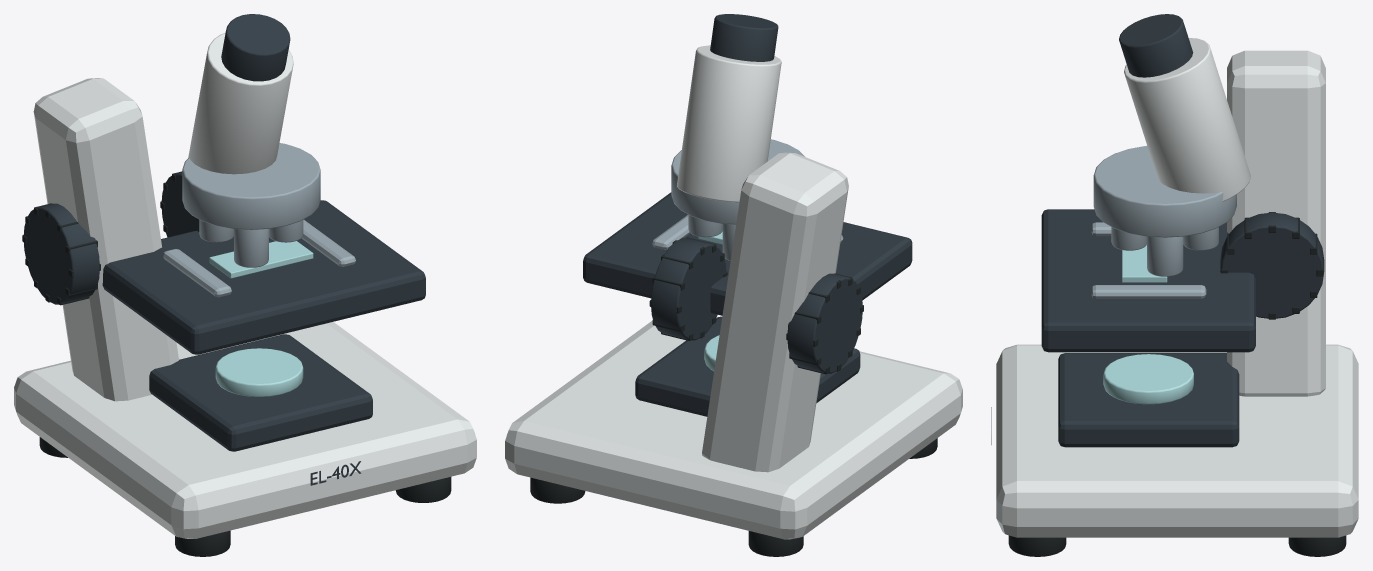
The model's file is microscope.glb.
3 views of the same model, side by side, from view 1: azimuth 30°, elevation 25°; view 2: azimuth 150°, elevation 25°; view 3: azimuth 270°, elevation 25° (orthographic). The views are drawn at different scales.
Visible parts, largest first — view 1: Cast enamel foot, Upright, Stage, Illuminator, Optical tube, Nosepiece, Focus wheel, Eyepiece, Lamp lens, Specimen slide, Focus wheel.001, Objective.002 (+6 smaller); view 2: Cast enamel foot, Upright, Optical tube, Stage, Focus wheel.001, Focus wheel, Illuminator, Eyepiece, Nosepiece, Rubber foot.001, Rubber foot.003, Slide clip.001 (+1 smaller); view 3: Cast enamel foot, Upright, Stage, Illuminator, Optical tube, Nosepiece, Focus wheel.001, Lamp lens, Eyepiece, Slide clip.001, Objective, Rubber foot.002 (+4 smaller).
Part boxes in pixels (x1,y1,x2,y2): Cast enamel foot: (14,322,476,538); Upright: (33,78,178,401); Stage: (102,200,425,354); Illuminator: (149,334,372,451); Optical tube: (188,33,293,174); Nosepiece: (182,143,320,229); Focus wheel: (23,203,99,304); Eyepiece: (221,14,290,81); Lamp lens: (215,348,303,396); Specimen slide: (209,241,313,278); Focus wheel.001: (161,172,199,237); Objective.002: (234,229,268,267); Cast enamel foot: (505,316,962,539); Upright: (702,152,848,472); Optical tube: (677,45,781,202); Stage: (583,192,912,315); Focus wheel.001: (651,238,726,340); Focus wheel: (787,273,862,373); Illuminator: (635,316,860,416); Eyepiece: (710,14,778,61); Nosepiece: (671,139,804,224); Rubber foot.001: (748,531,803,556); Rubber foot.003: (530,477,585,503); Slide clip.001: (652,215,690,249); Cast enamel foot: (996,344,1358,537); Upright: (1227,50,1325,396); Stage: (1041,209,1255,352); Illuminator: (1058,353,1239,447); Optical tube: (1124,38,1250,201); Nosepiece: (1093,146,1236,237); Focus wheel.001: (1220,212,1324,318); Lamp lens: (1103,354,1193,404); Eyepiece: (1119,14,1193,77); Slide clip.001: (1091,285,1206,298); Objective: (1147,236,1183,276); Rubber foot.002: (1008,535,1066,556).
Size of the model in its own units: 0.4415 by 0.6268 by 0.4463.
